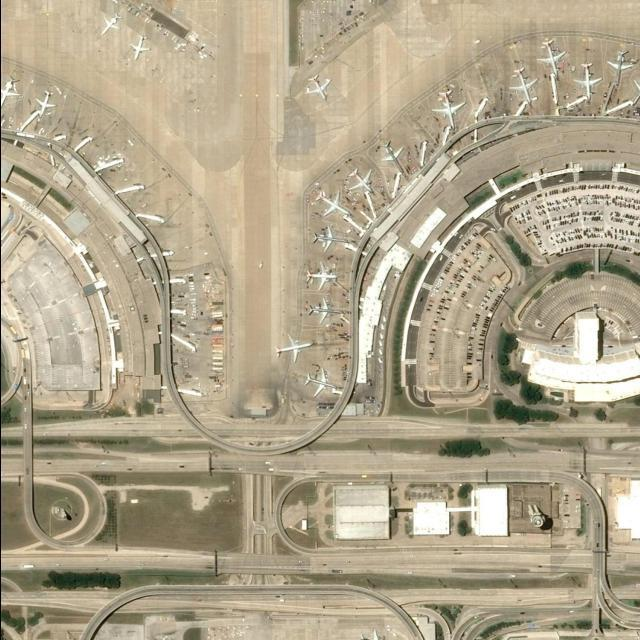Aircraft: (535, 39, 569, 77), (433, 92, 467, 129), (278, 334, 314, 366), (510, 68, 538, 108), (302, 368, 334, 399), (314, 189, 347, 219), (573, 63, 600, 99), (608, 48, 634, 84), (348, 166, 374, 201), (303, 73, 334, 102), (378, 141, 406, 173), (313, 225, 343, 253), (304, 264, 339, 288), (307, 298, 335, 325), (129, 36, 151, 63), (100, 12, 120, 40), (34, 91, 56, 116), (0, 80, 18, 110), (359, 627, 388, 640)
